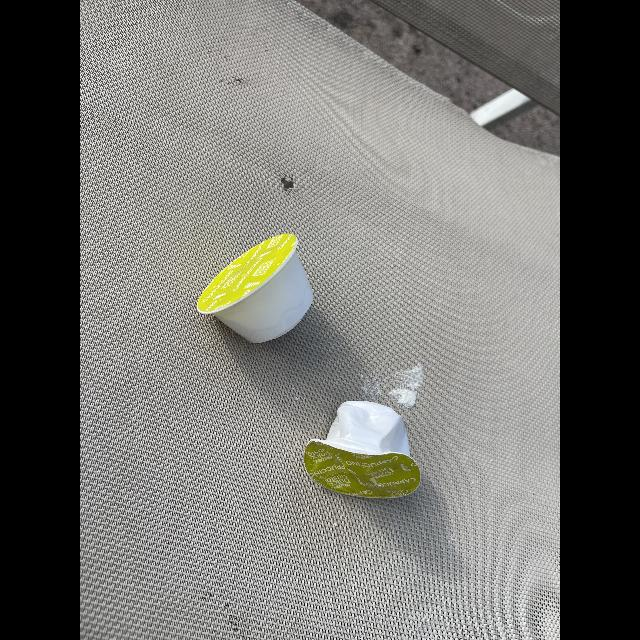damaged_capsule: (302, 394, 426, 506)
intact_capsule: (196, 228, 316, 346)
